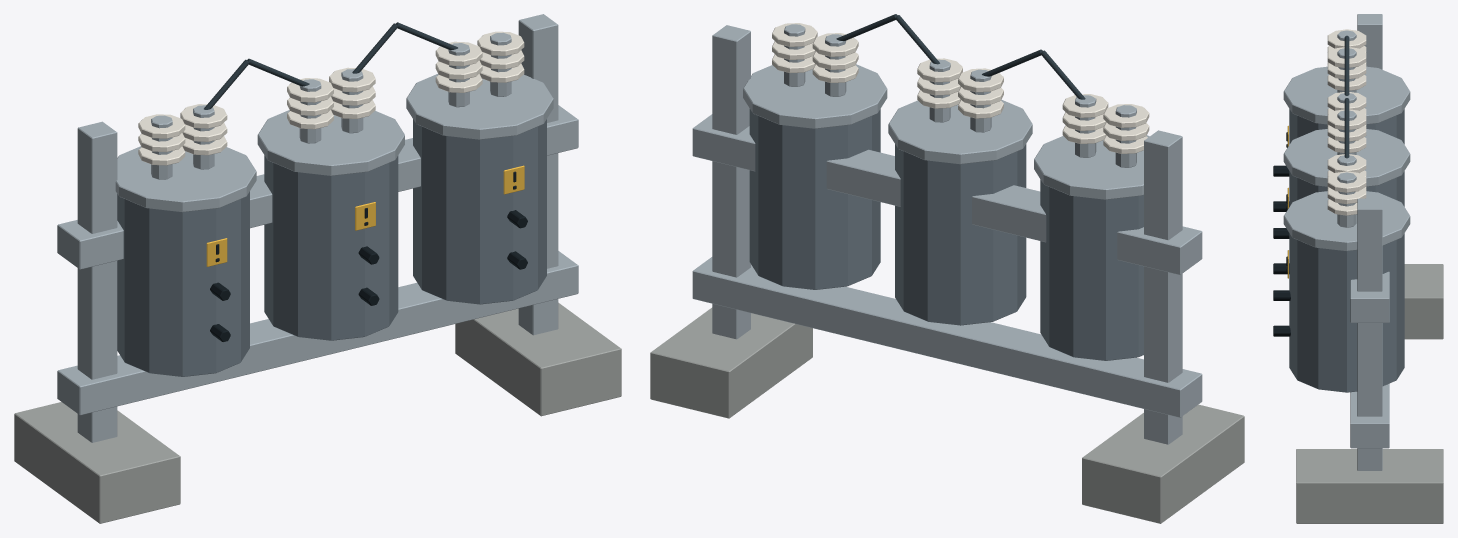
The model's file is b05_three_phase_transformer_rack.glb.
3 views of the same model, side by side, from view 1: azimuth 30°, elevation 25°; view 2: azimuth 150°, elevation 25°; view 3: azimuth 270°, elevation 25° (orthographic). The views are drawn at different scales.
Visible parts, largest first — view 1: b05_three_phase_transformer_rack; view 2: b05_three_phase_transformer_rack; view 3: b05_three_phase_transformer_rack.
Boxes of the visible parts, bbox=[...] form: b05_three_phase_transformer_rack: bbox=[14, 14, 621, 523]; b05_three_phase_transformer_rack: bbox=[650, 14, 1244, 523]; b05_three_phase_transformer_rack: bbox=[1273, 14, 1443, 523].
Size of the model in its own units: 2.25 by 1.65 by 0.74.
